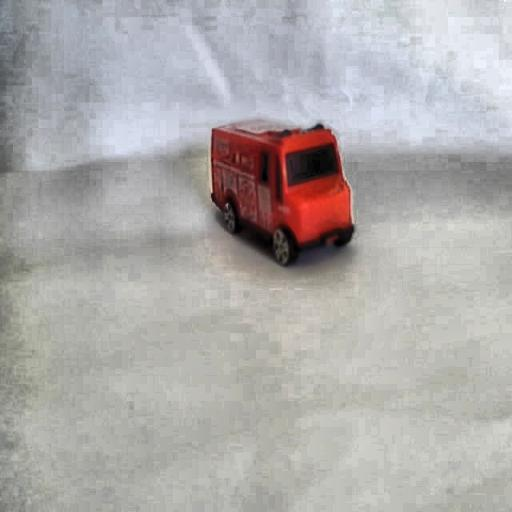fire_truck: (205, 113, 358, 272)
